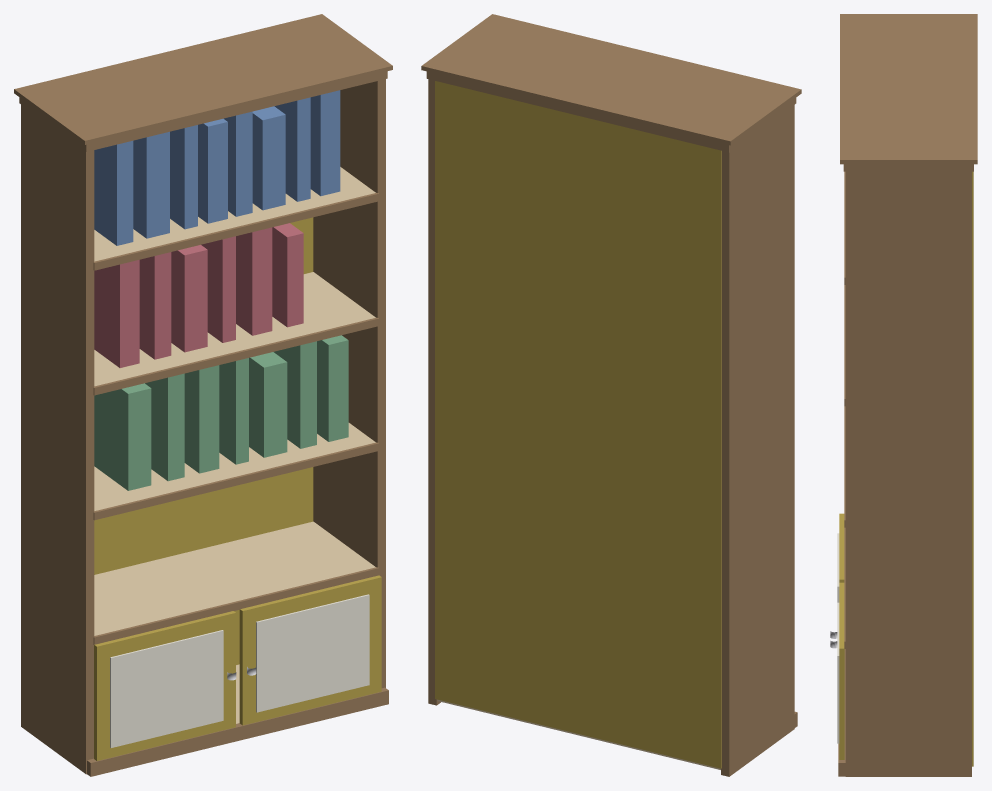
File: bookcase.glb
The picture shows the model from 3 angles, left to right: view 1: azimuth 30°, elevation 25°; view 2: azimuth 150°, elevation 25°; view 3: azimuth 270°, elevation 25°; orthographic projection. The views are drawn at different scales.
Visible parts, largest first — view 1: sides, shelves, books_mid_lower, books_top, crown_molding, books_mid_upper, door_panels, back, shelf_edges, door_r, door_l, plinth (+1 smaller); view 2: back, sides, crown_molding, top; view 3: sides, crown_molding, back, door_r, top, shelf_edges, door_panels, door_l, plinth.
Part boxes in pixels (bbox=[...]): sides: bbox=[21, 79, 385, 774]; shelves: bbox=[94, 167, 375, 723]; books_mid_lower: bbox=[94, 335, 348, 490]; books_top: bbox=[94, 90, 340, 245]; crown_molding: bbox=[14, 14, 392, 144]; books_mid_upper: bbox=[94, 223, 303, 367]; door_panels: bbox=[110, 594, 369, 747]; back: bbox=[94, 217, 313, 664]; shelf_edges: bbox=[93, 192, 379, 644]; door_r: bbox=[239, 575, 381, 725]; door_l: bbox=[94, 611, 235, 760]; plinth: bbox=[87, 687, 388, 776]; back: bbox=[435, 81, 721, 768]; sides: bbox=[428, 79, 794, 776]; crown_molding: bbox=[421, 14, 801, 145]; top: bbox=[426, 71, 796, 152]; sides: bbox=[845, 171, 971, 776]; crown_molding: bbox=[840, 14, 977, 164]; back: bbox=[972, 171, 973, 766]; door_r: bbox=[839, 582, 844, 759]; top: bbox=[843, 164, 973, 171]; shelf_edges: bbox=[844, 171, 845, 648]; door_panels: bbox=[837, 533, 839, 743]; door_l: bbox=[839, 513, 844, 582]; plinth: bbox=[838, 649, 845, 776].
Bounding box in the file's own units: 0.93 × 1.84 × 0.3964.
